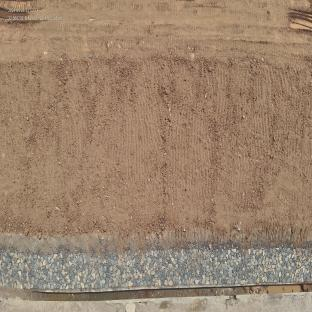rock_toe: (0, 245, 312, 289)
toe_drain: (0, 281, 312, 305)
